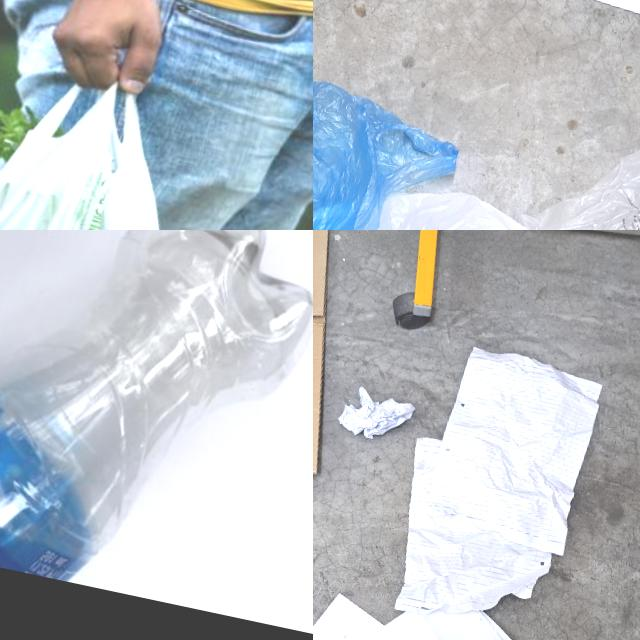garrafa plástica: (0, 230, 313, 619)
papel: (386, 338, 606, 639), (313, 558, 631, 640), (335, 381, 417, 447)
papelão: (313, 230, 381, 487)
sacola plástica: (313, 20, 640, 230), (0, 42, 241, 230)
